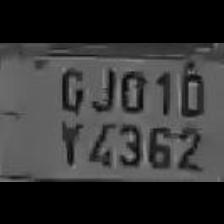0: (174, 62, 206, 116), (115, 62, 147, 112)
1: (148, 64, 174, 116)
2: (172, 121, 204, 171)
3: (113, 118, 141, 166)
4: (83, 115, 115, 167)
6: (143, 120, 173, 168)
G: (54, 62, 88, 112)
J: (88, 61, 116, 111)
Y: (52, 113, 82, 165)
